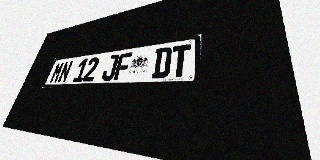1: (72, 58, 90, 82)
2: (82, 57, 100, 82)
D: (151, 46, 172, 78)
F: (113, 52, 133, 80)
J: (101, 54, 120, 81)
M: (49, 62, 65, 83)
N: (57, 60, 74, 83)
T: (169, 44, 191, 78)
